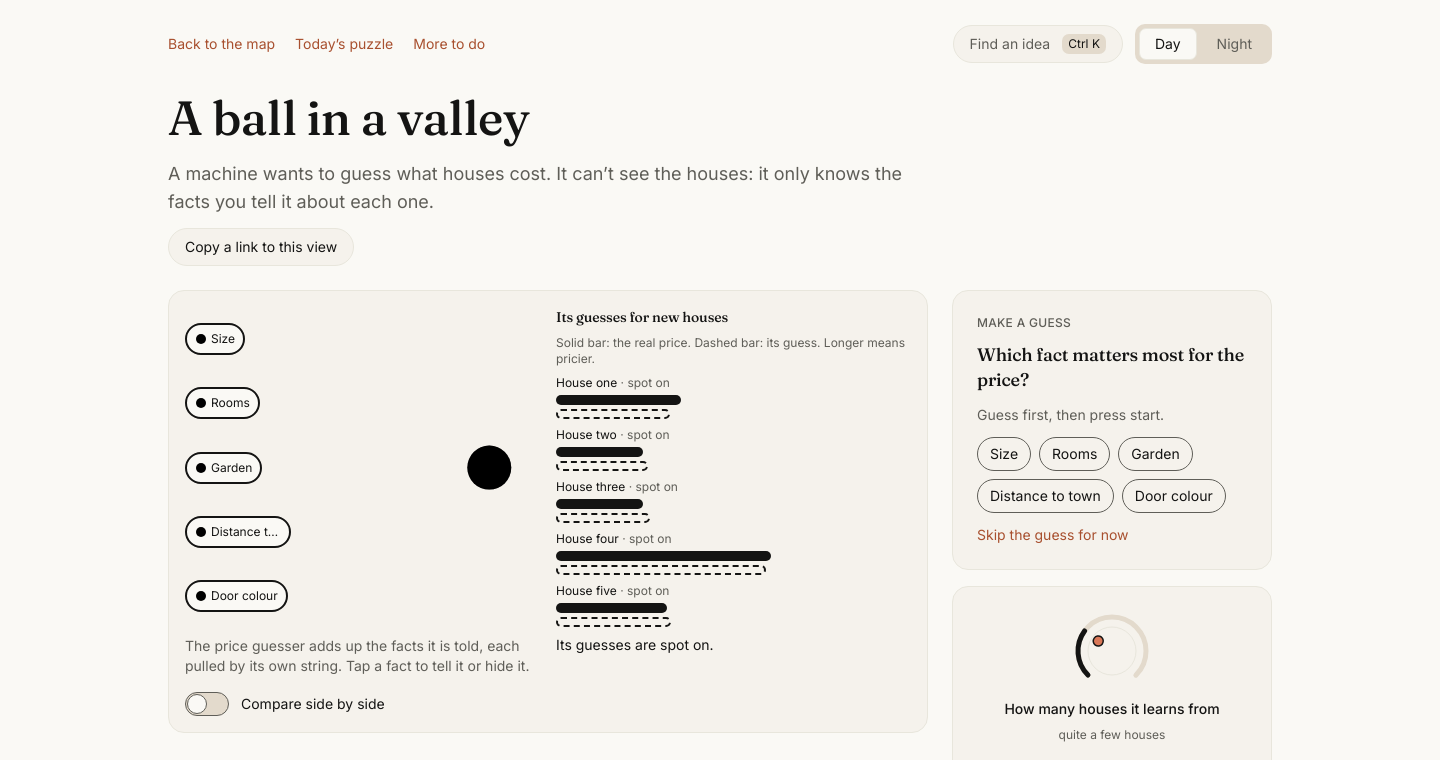
Scenario: what the machine sees: in the lesson › earns the star when size is hidden
Step 1. Click the button "Skip the guess for now" → click(1053, 534), box [977,524,1128,544]
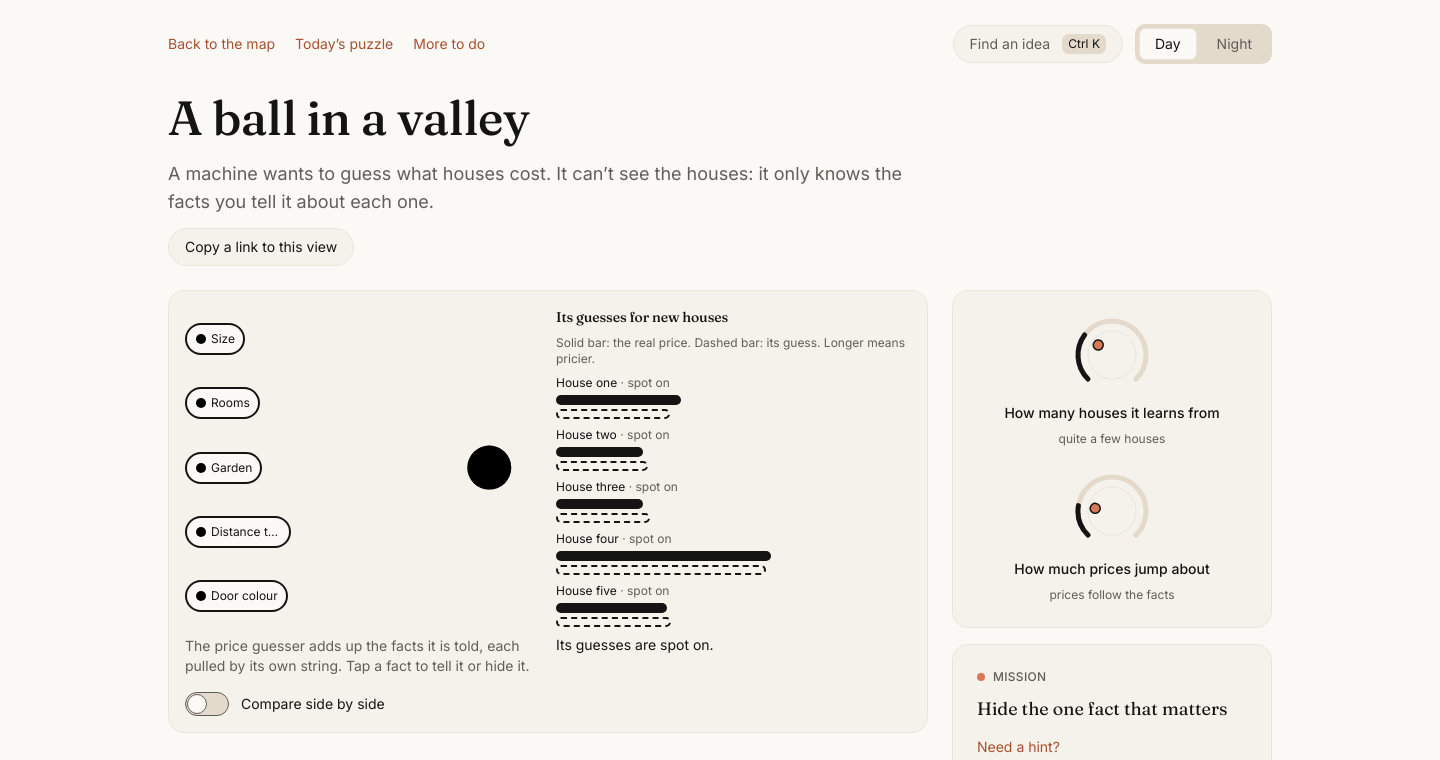
Step 2. Click the button "Size" → click(215, 339), box [185,323,245,355]
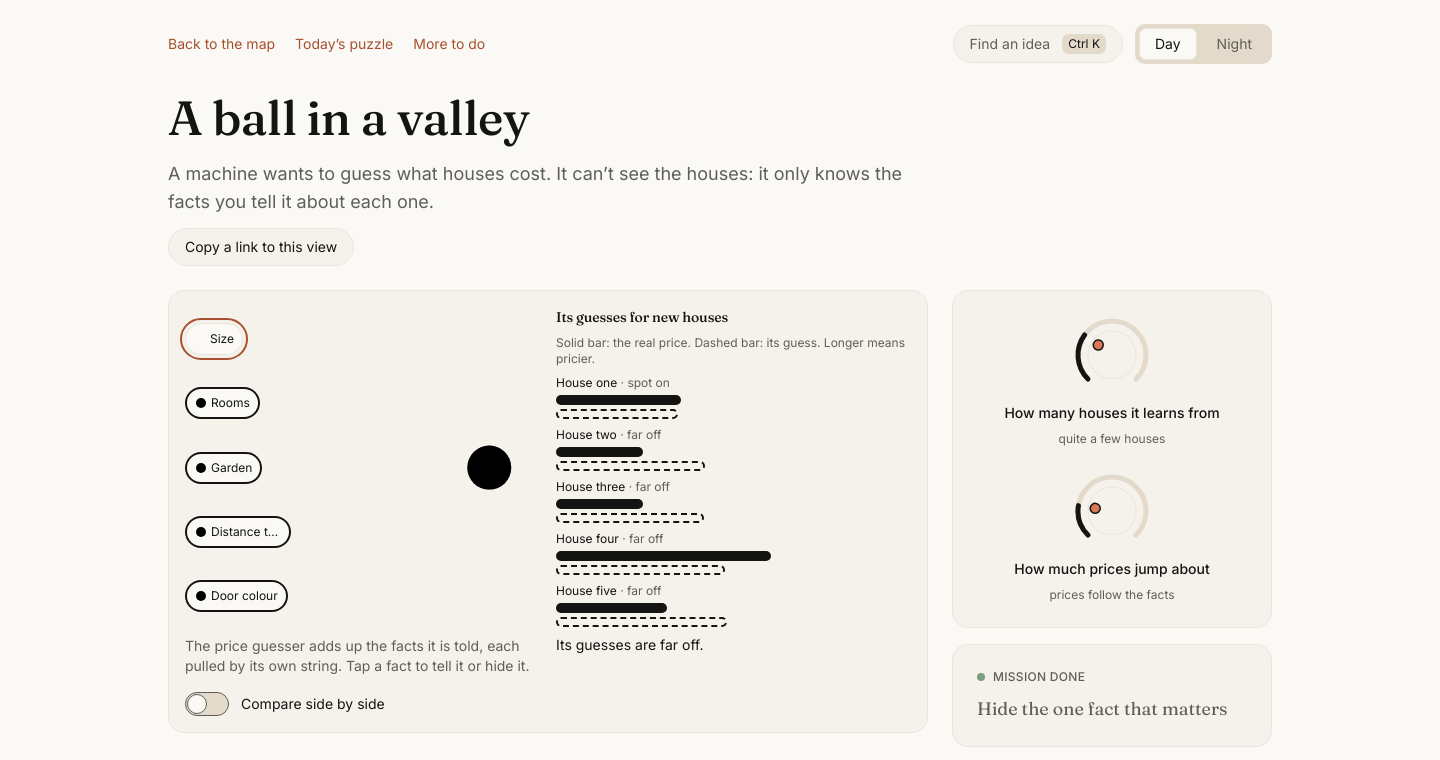
Expected: the text "Its guesses are far off." has attribute data-overall="far", [556,636,704,653]
